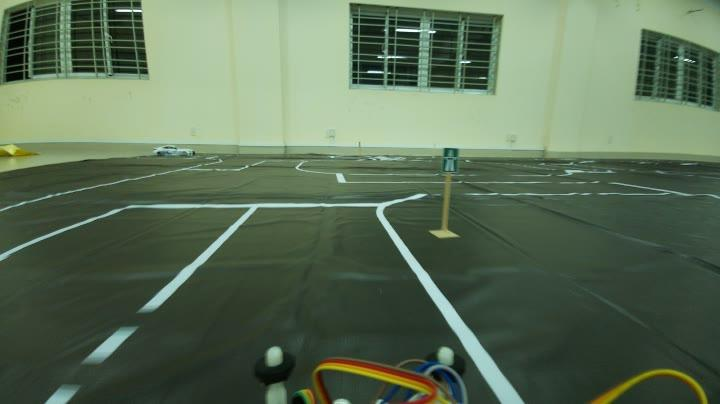highway_entry: (426, 144, 466, 183)
